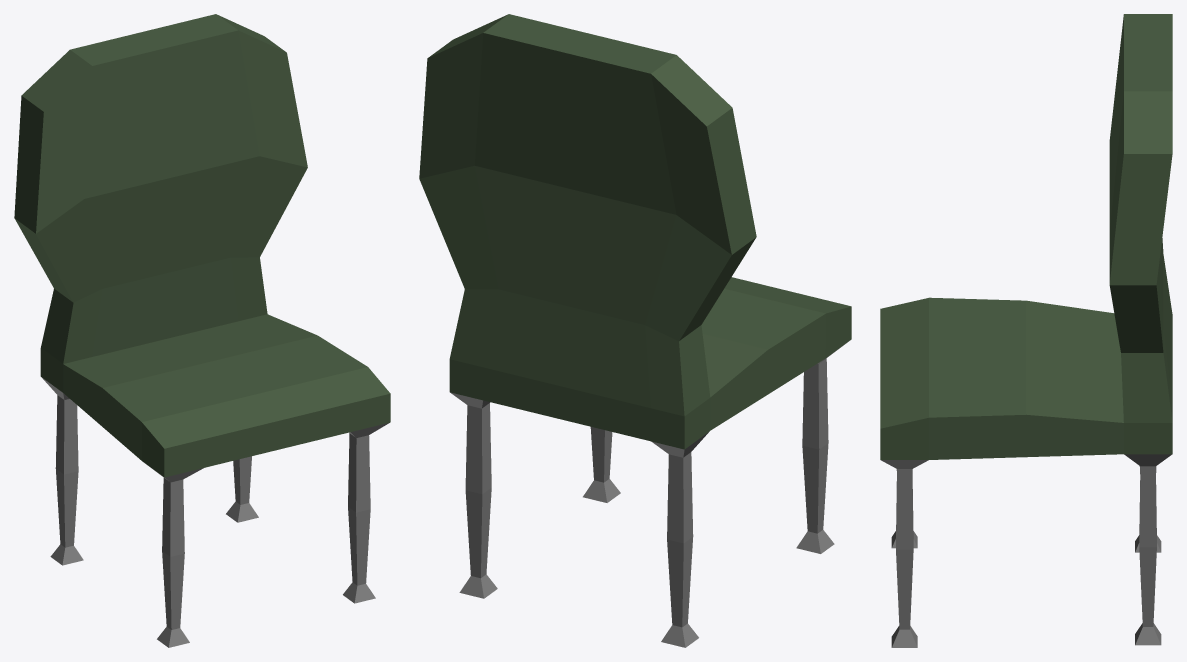
Rendered from Chair3.fbx.
3 views of the same model, side by side, from view 1: azimuth 30°, elevation 25°; view 2: azimuth 150°, elevation 25°; view 3: azimuth 270°, elevation 25° (orthographic). The views are drawn at different scales.
Parts seen in each view (by area): view 1: Cube; view 2: Cube; view 3: Cube.
Part boxes in pixels (box(x1,y1,x2,y2)): Cube: box(14, 14, 390, 647); Cube: box(419, 14, 851, 647); Cube: box(880, 14, 1172, 647).
Bounding box in the file's own units: 279 × 488 × 239.
